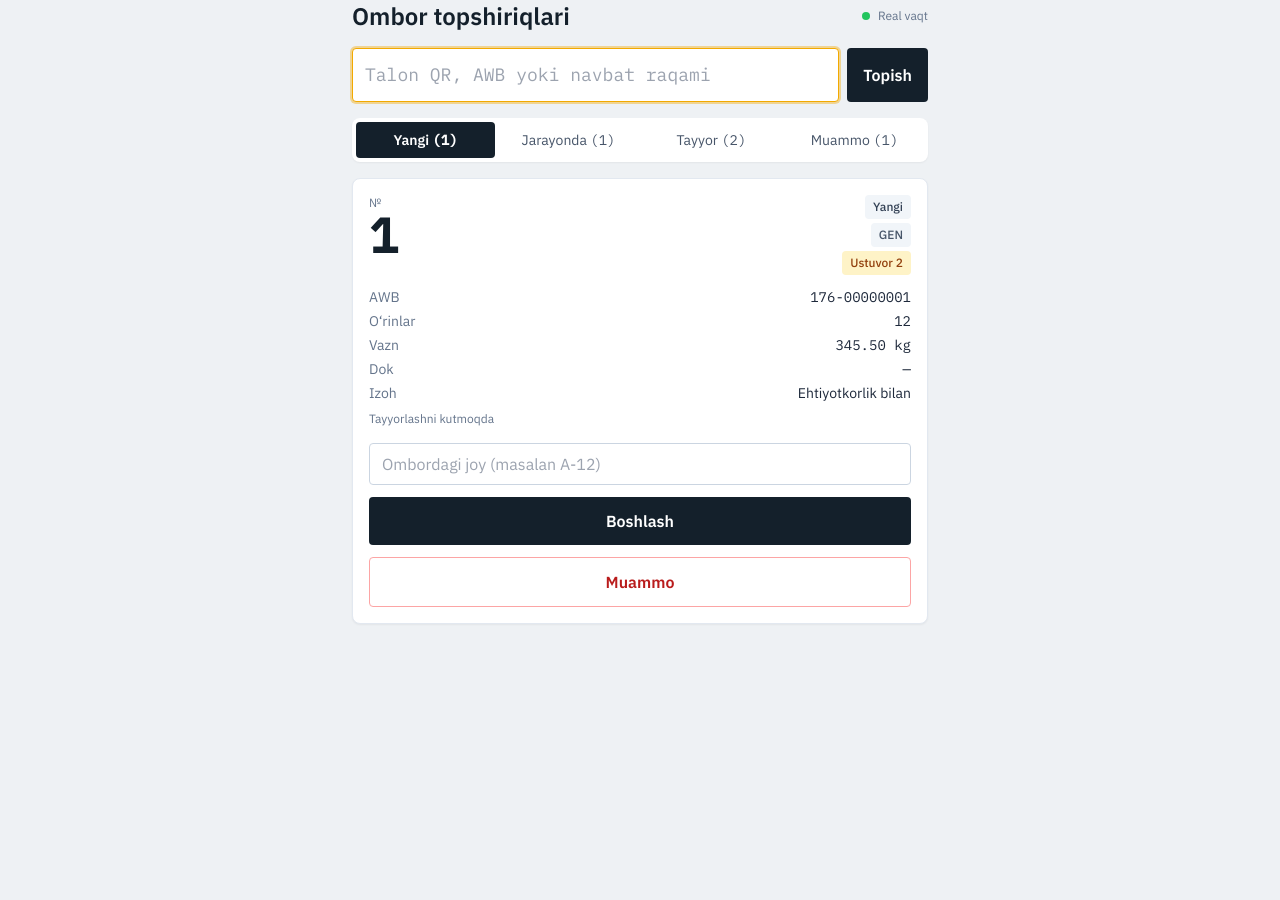
Test: WarehousePage › reports a problem; the description is required
Click the button "Muammo" at point(640, 582), box [369,557,911,607]
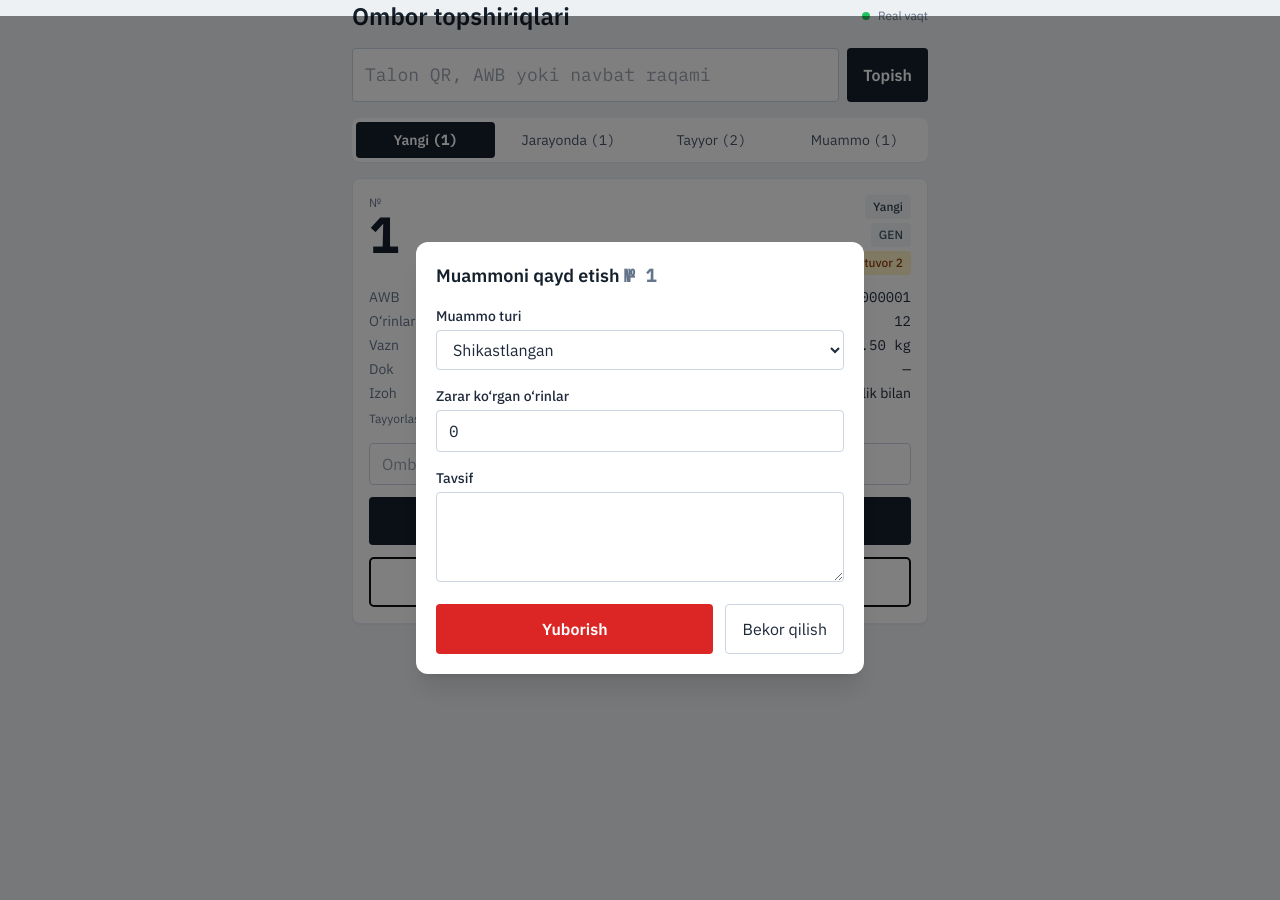
Click the button "Yuborish" at point(575, 629), box [436,604,714,654]
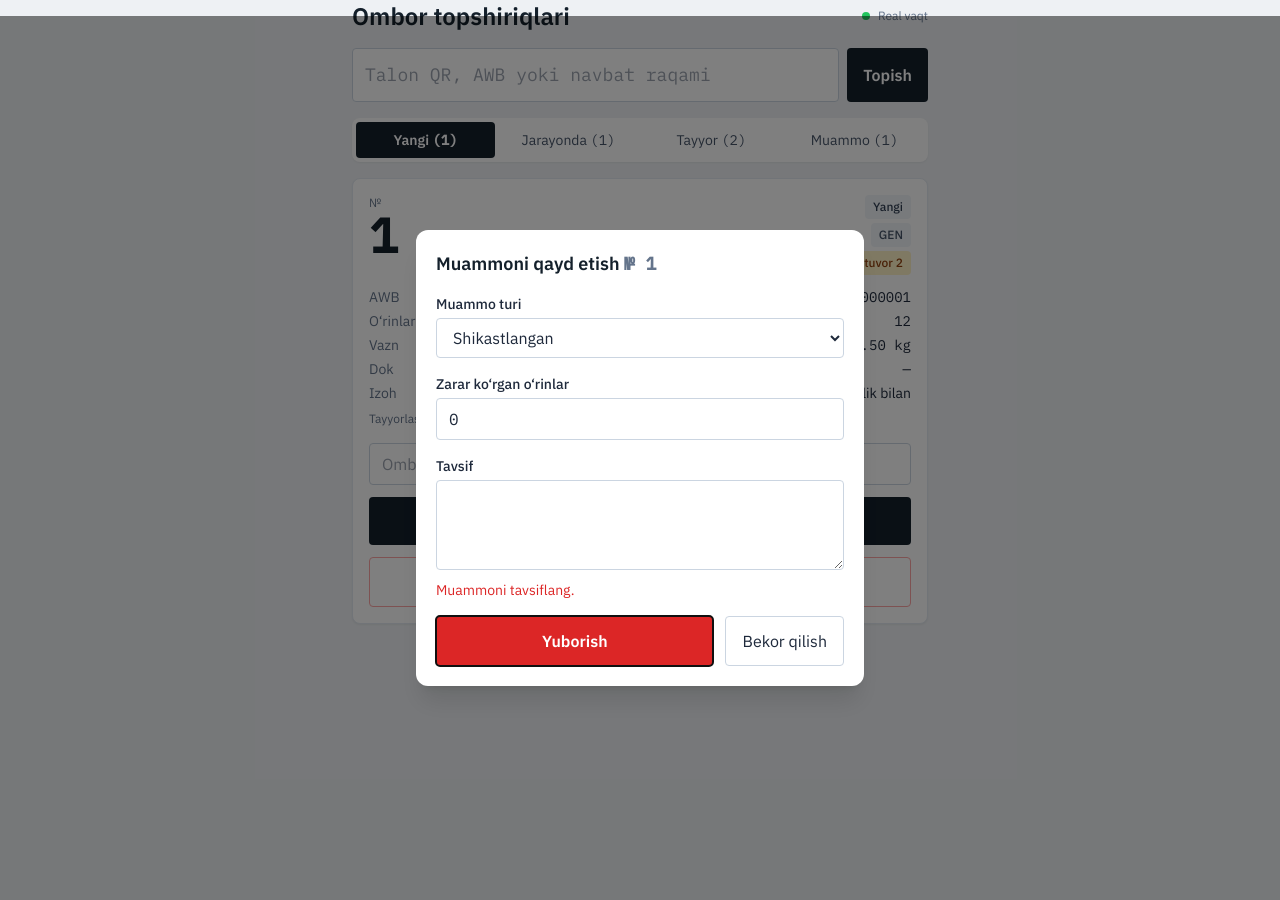
Expected: the text "Muammoni tavsiflang." is shown, [436,581,574,599]
Select "Kamomad" in the dropdown labelled "Muammo turi" at point(640, 338), box [436,318,844,358]
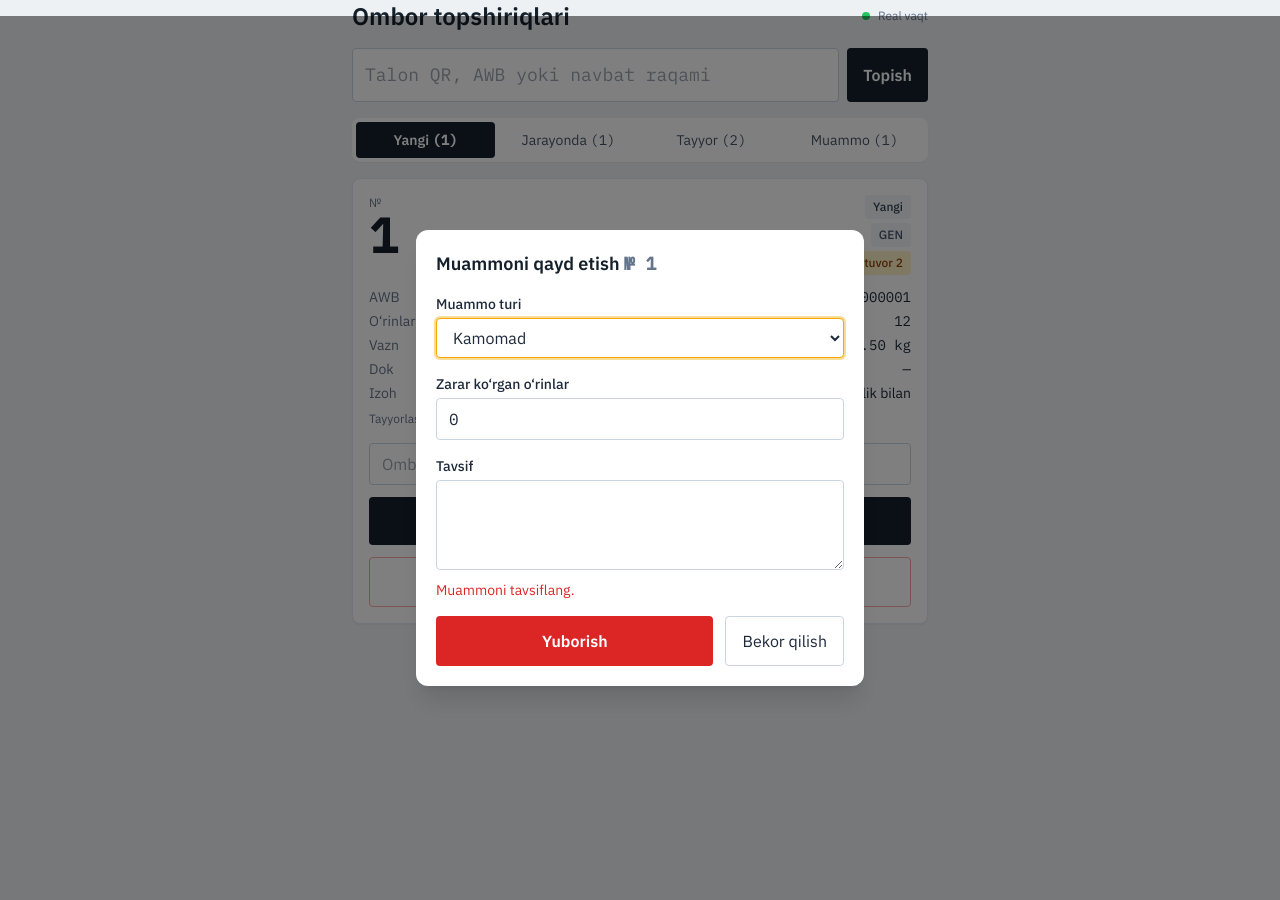
Replace the text in the field labelled "Zarar ko‘rgan o‘rinlar" with "3" at point(640, 419), box [436,398,844,440]
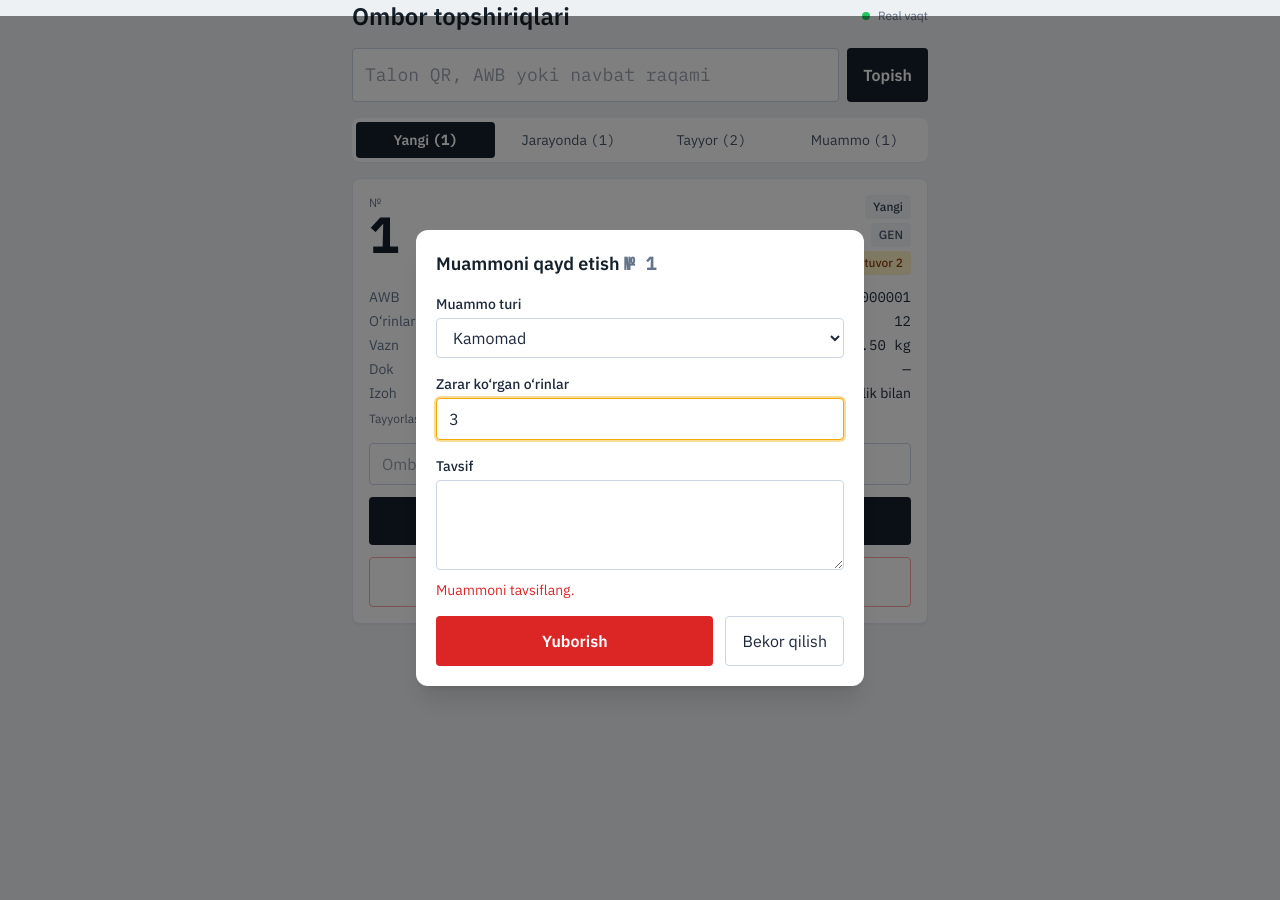
Type "3 quti yo‘q" into the text box labelled "Tavsif" at point(640, 525), box [436,480,844,570]
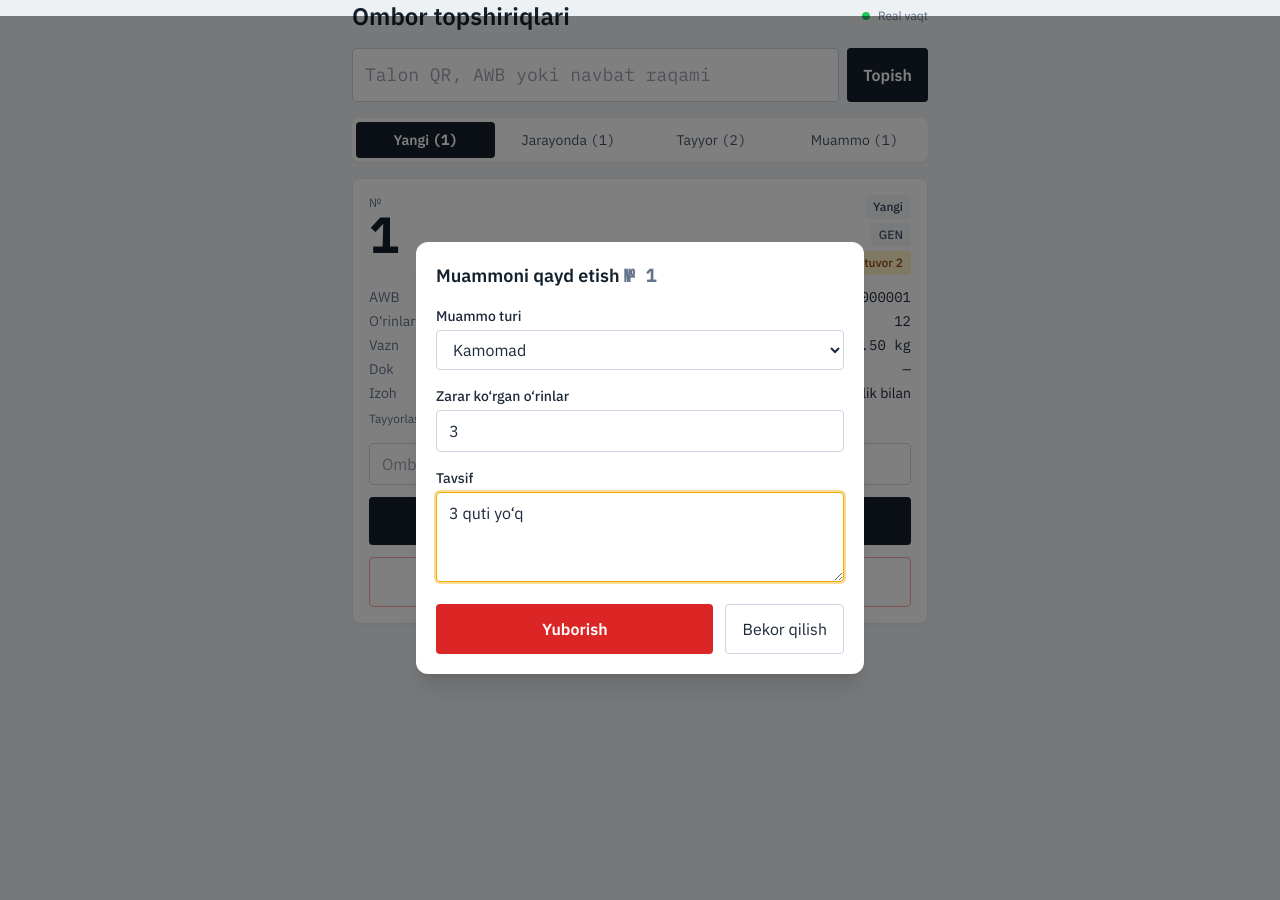
Click the button "Yuborish" at point(575, 629), box [436,604,714,654]
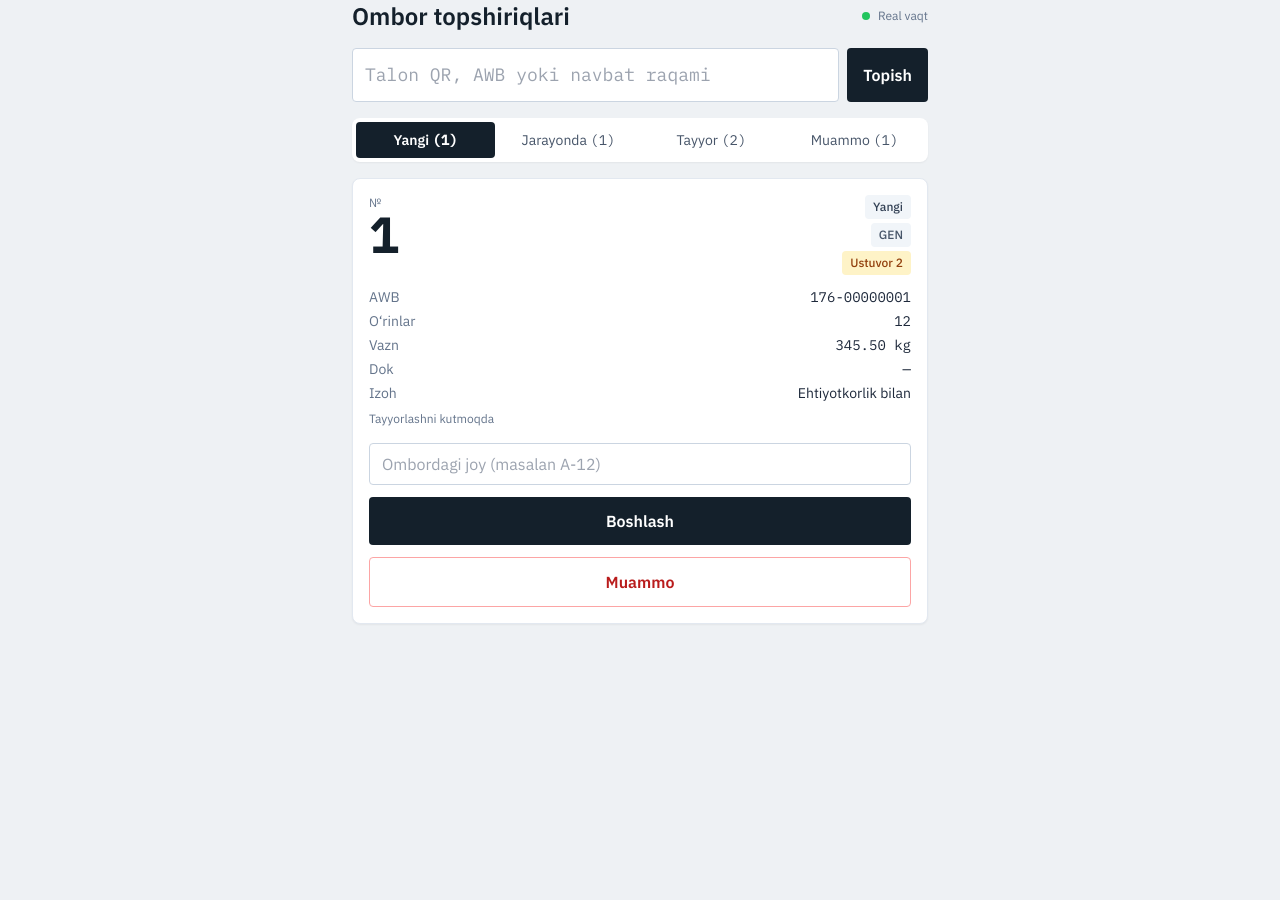
Expected: the dialog is gone
